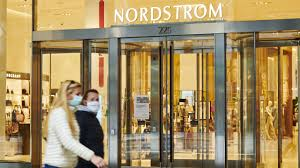mask: (56, 77, 82, 106), (81, 86, 101, 112)
